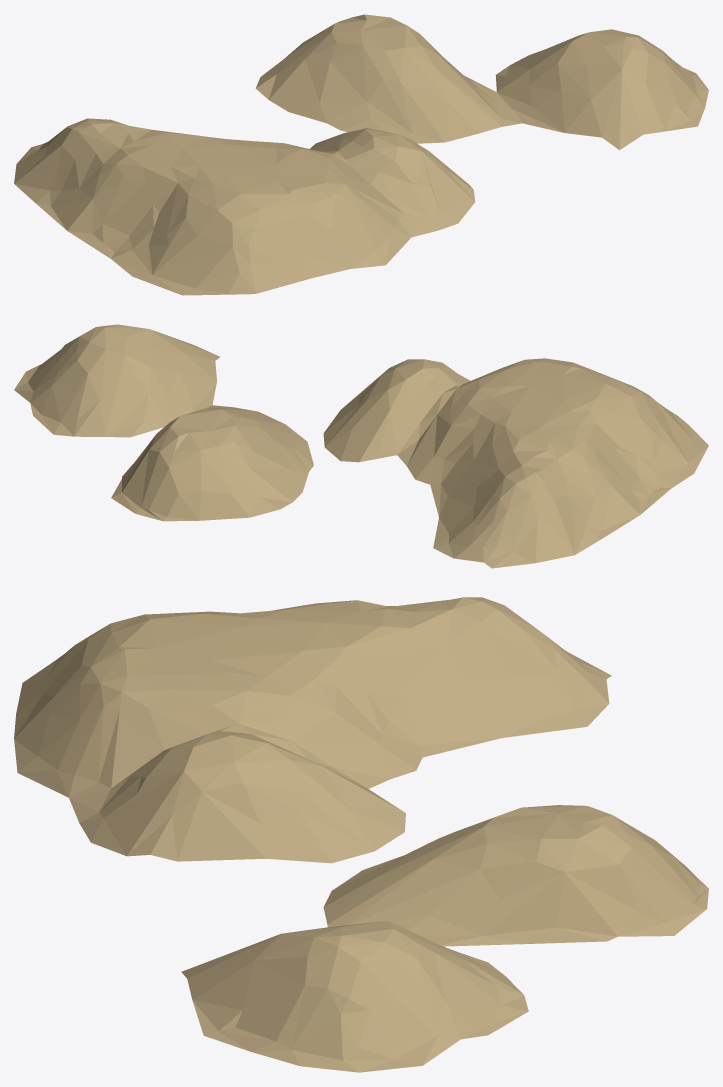
File: SOP_Island_04.fbx
The picture shows the model from 3 angles, top to bottom: view 1: azimuth 30°, elevation 25°; view 2: azimuth 150°, elevation 25°; view 3: azimuth 270°, elevation 25°; orthographic projection. The views are drawn at different scales.
Visible parts, largest first — view 1: Island_04; view 2: Island_04; view 3: Island_04.
Part boxes in pixels (bbox=[...]): Island_04: bbox=[14, 14, 708, 295]; Island_04: bbox=[14, 324, 708, 568]; Island_04: bbox=[14, 597, 708, 1072].
Bounding box in the file's own units: 25.18 × 2.46 × 16.94.
